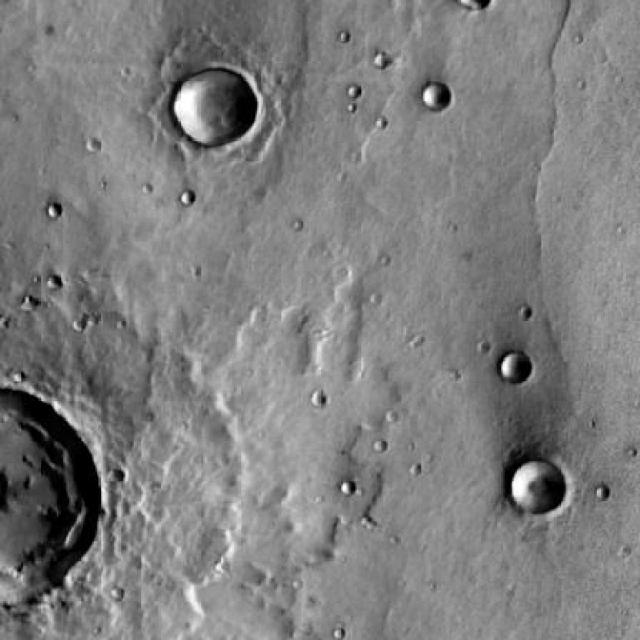crater: (0, 382, 102, 602), (169, 67, 253, 150), (508, 460, 564, 514), (498, 354, 531, 384), (422, 81, 453, 110), (339, 482, 355, 498), (374, 54, 389, 69)
